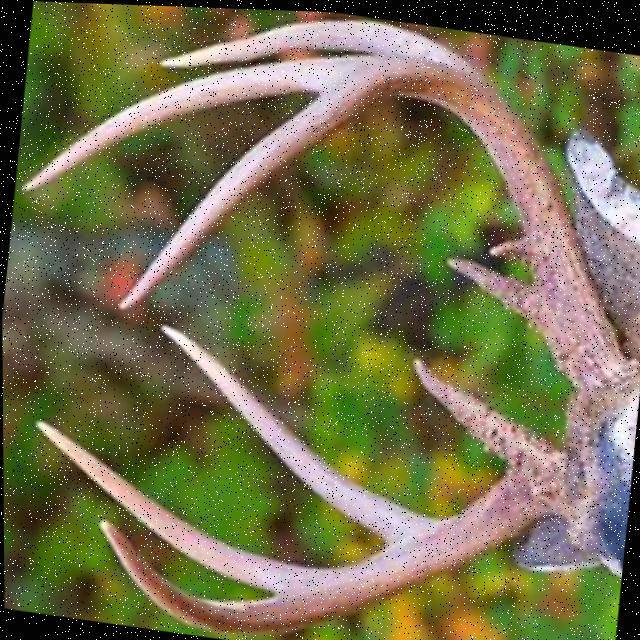E1: (485, 232, 529, 261)
L-F: (113, 52, 640, 390)
L-G1: (442, 252, 532, 315)
L-G2: (157, 15, 478, 69)
L-G3: (18, 51, 371, 193)
R-F: (96, 442, 583, 635)
R-G1: (409, 353, 554, 460)
R-G2: (156, 322, 439, 539)
R-G3: (29, 418, 320, 591)
